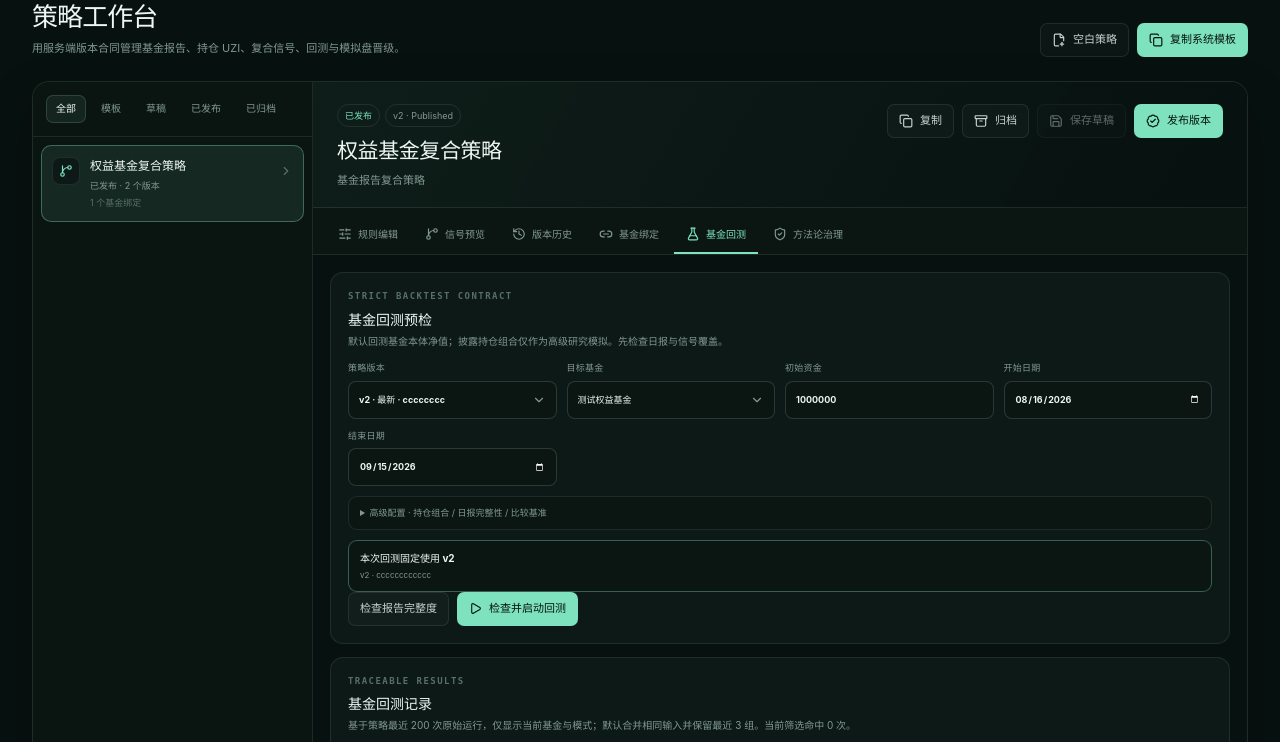
Test case: Strategies › shows the selected immutable version and materializes missing signals from complete reports
Step 1. Type "2026-08-07" into the date field labelled "开始日期" → point(1108, 400), box 1004,381 -> 1212,419
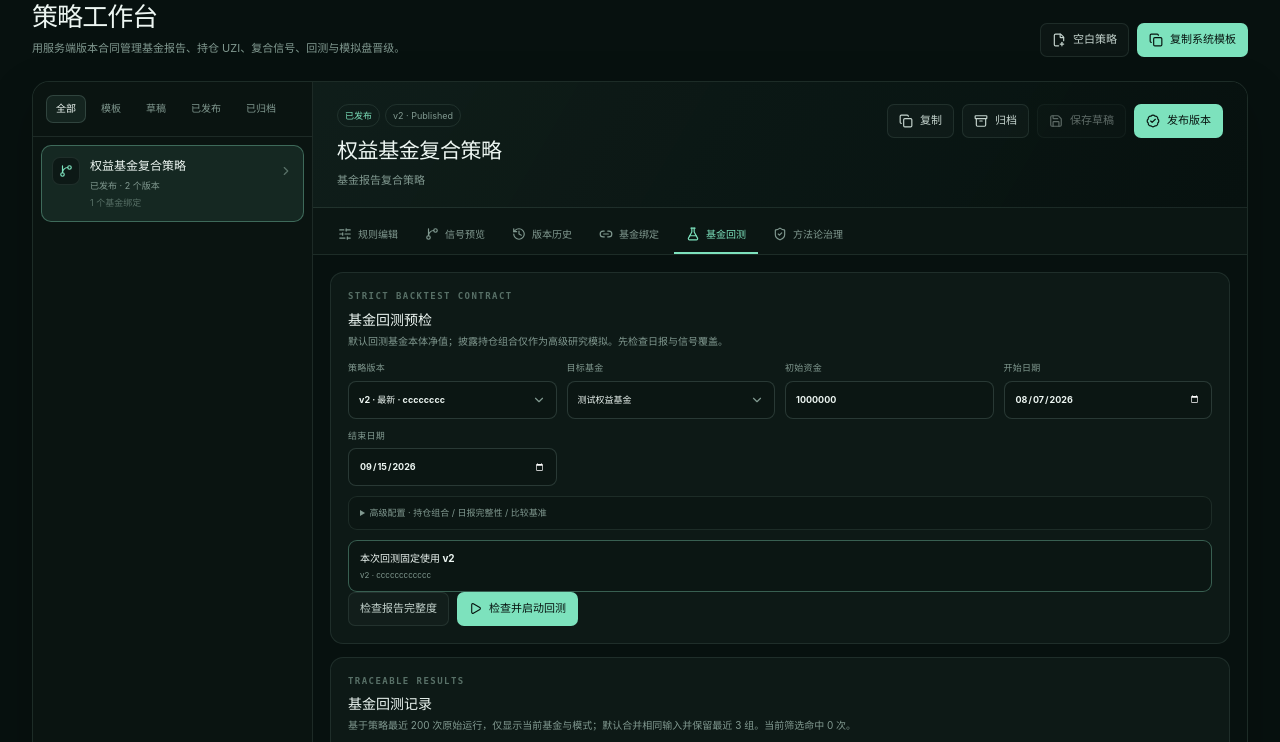
Step 2. Type "2026-08-14" into the date field labelled "结束日期" → point(452, 467), box 348,448 -> 556,486
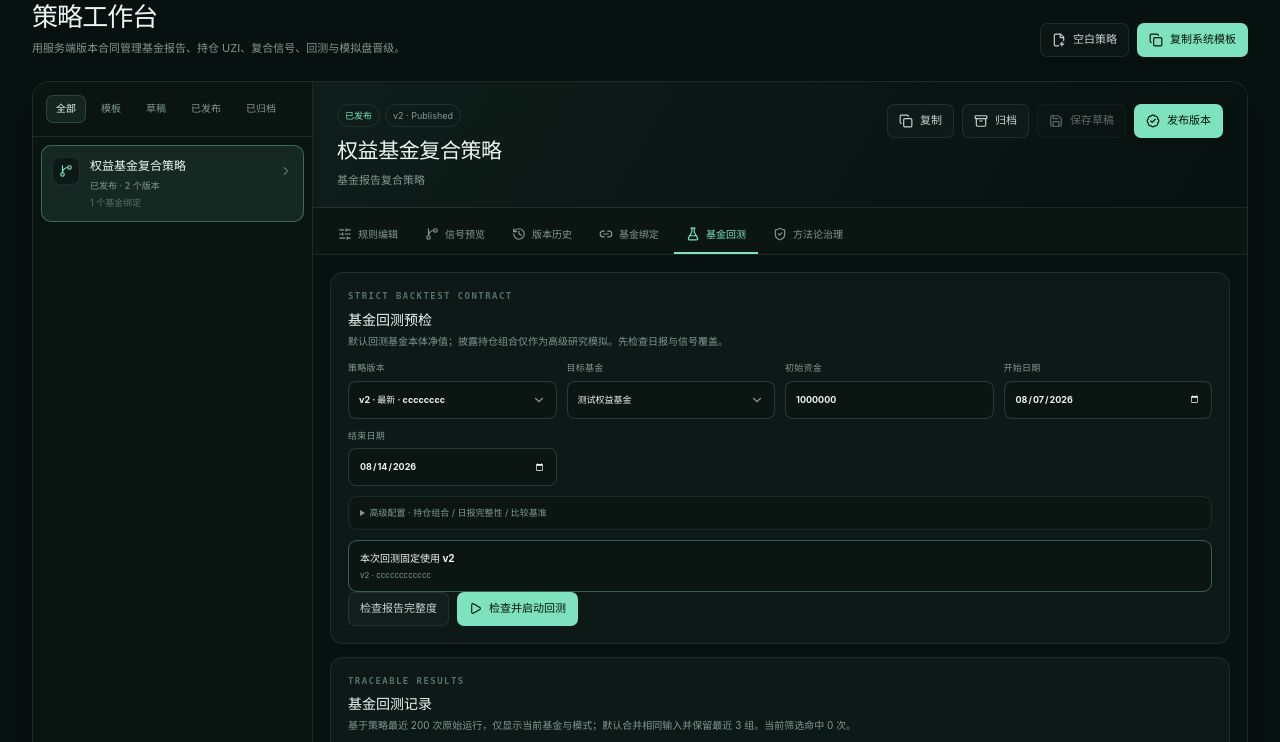
expect the text "本次回测固定使用 v2" is shown: met, box 360,551 -> 455,566
expect the dropdown named "策略版本" shows "v2 · 最新": met, box 348,381 -> 556,419
Step 3. Click the button "检查并启动回测" → point(518, 609), box 457,592 -> 578,626
(page scrolled)
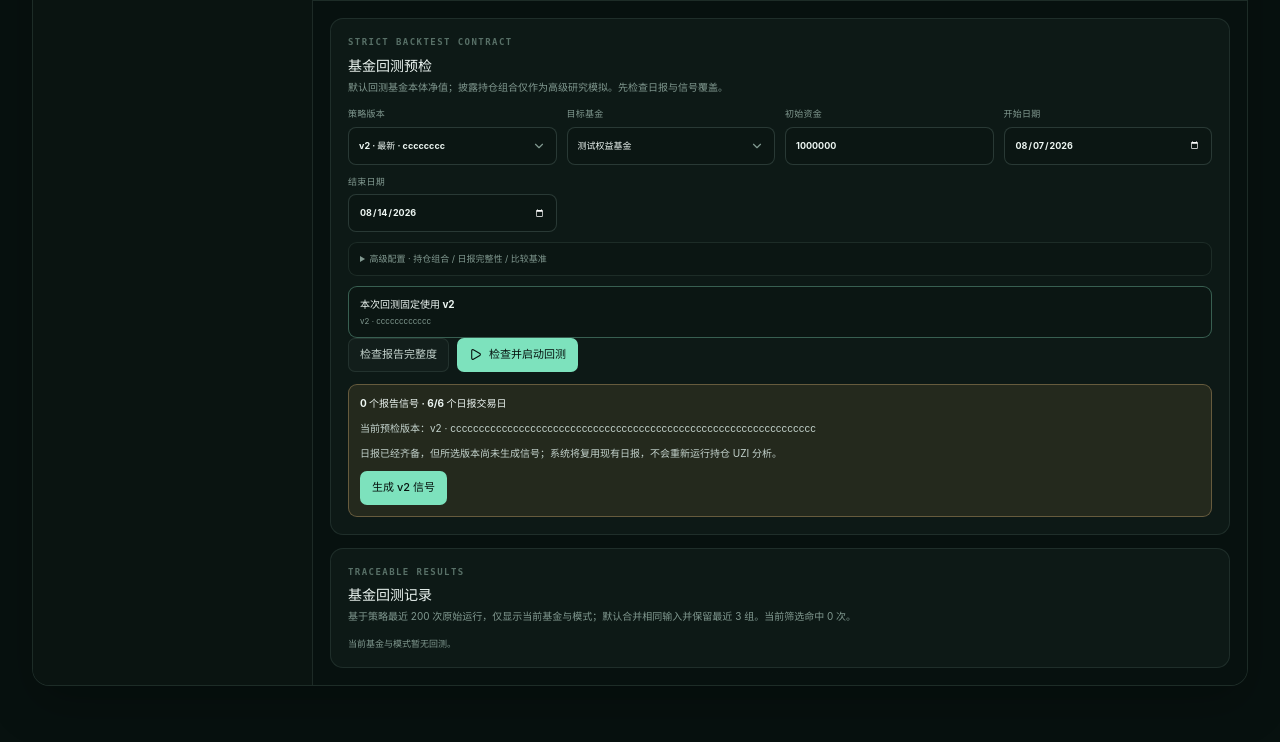
expect the text "0 个报告信号 · 6/6 个日报交易日" is shown: met, box 360,397 -> 506,409
expect the text "日报已经齐备，但所选版本尚未生成信号；系统将复用现有日报，不会重新运行持仓 UZI 分析。" is shown: met, box 360,447 -> 782,459
Step 4. Click the button "生成 v2 信号" → point(404, 488), box 360,471 -> 447,505
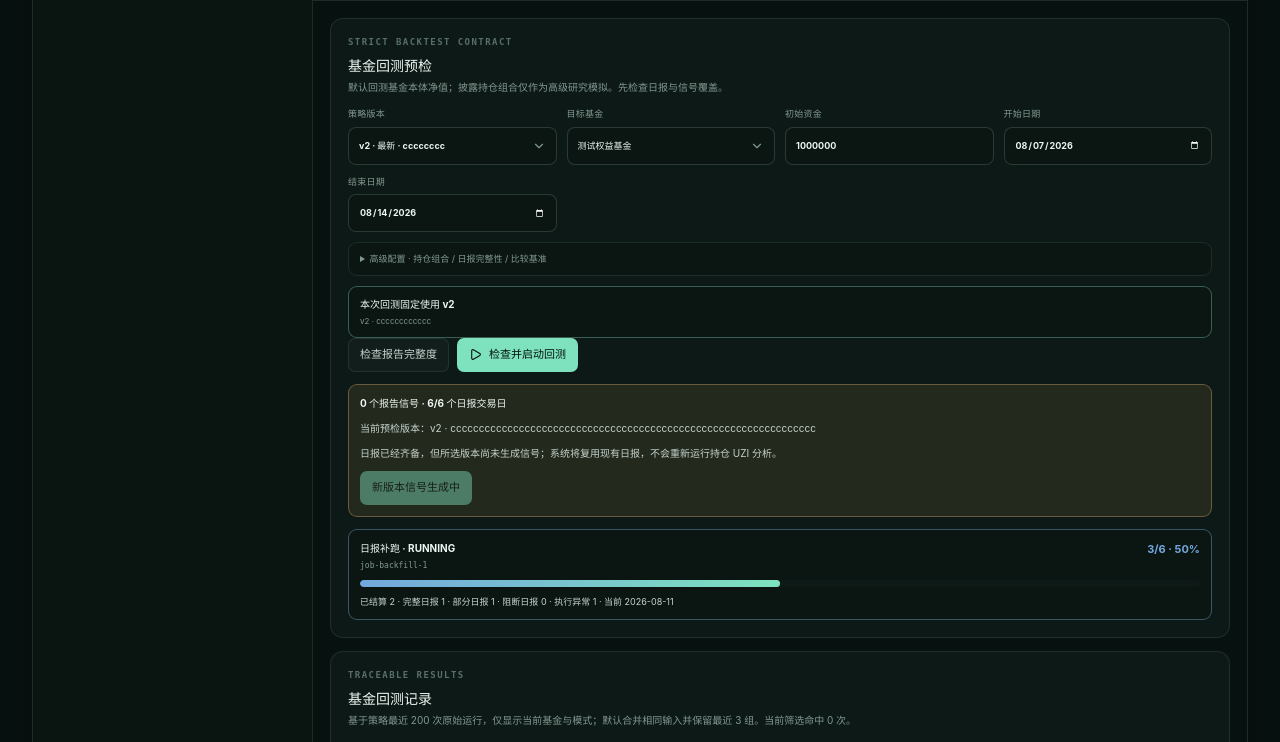
expect the text "日报补跑 · RUNNING" is shown: met, box 360,541 -> 455,556
